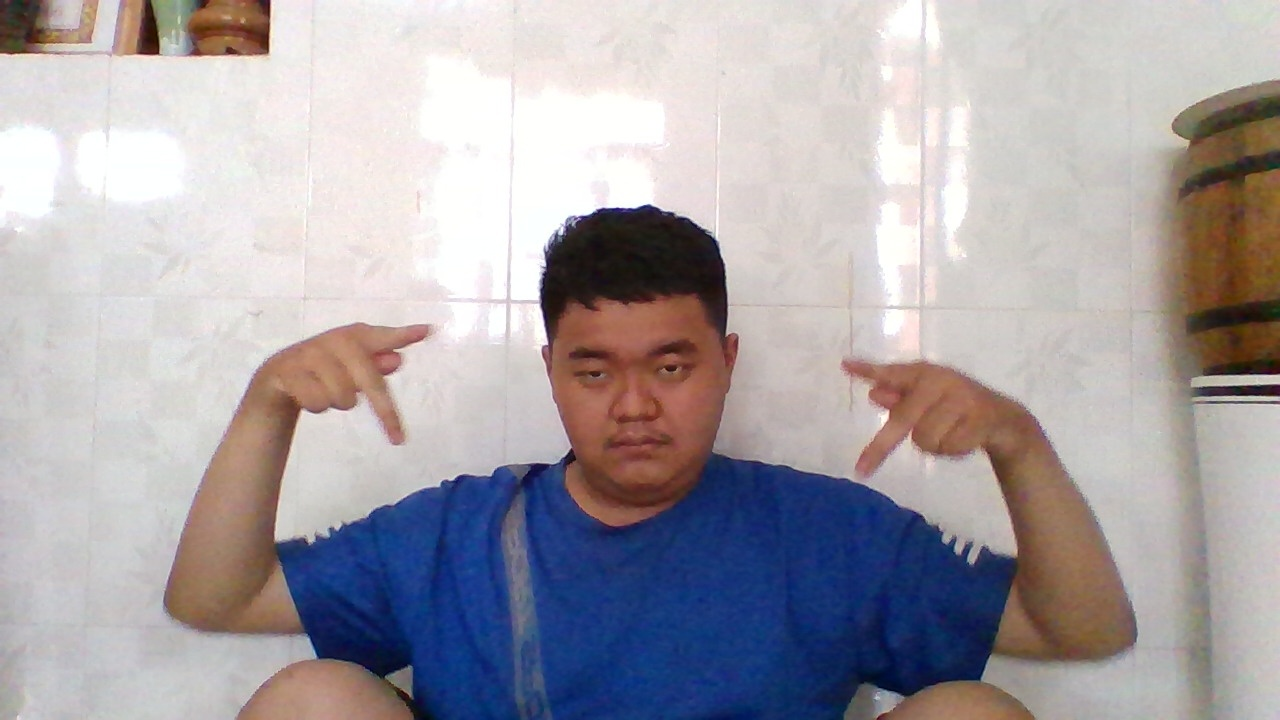P: (831, 348, 1031, 487), (258, 313, 443, 455)
